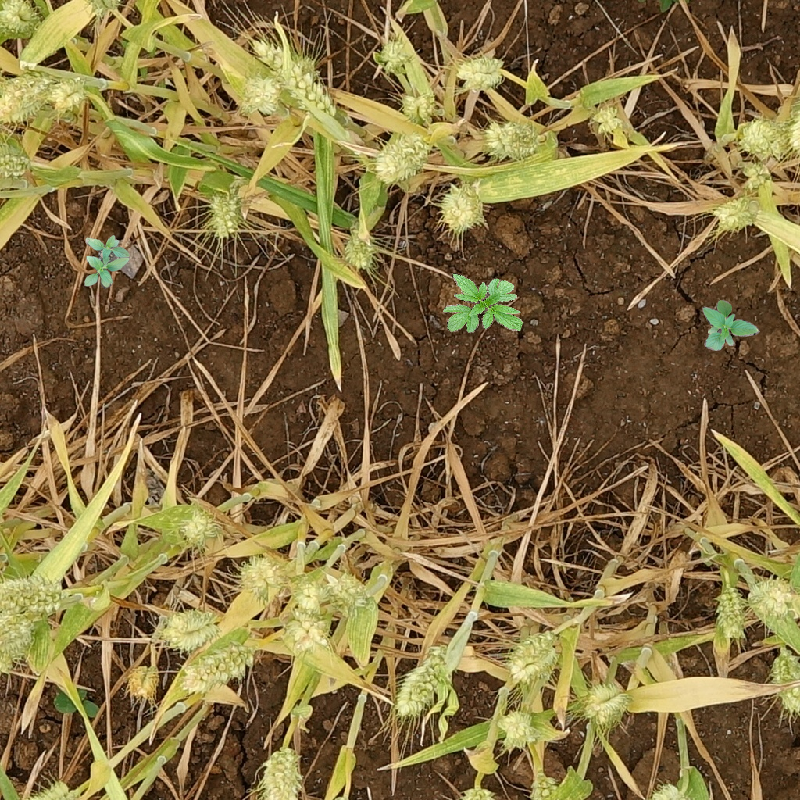spikelet: (255, 33, 330, 111), (391, 644, 454, 719), (179, 639, 257, 693), (371, 131, 429, 183), (505, 629, 559, 683), (156, 606, 220, 650), (1, 573, 65, 614), (1, 72, 52, 123), (438, 181, 485, 234), (258, 745, 304, 799), (483, 118, 542, 160), (48, 72, 100, 117), (237, 552, 284, 600), (580, 680, 629, 726), (748, 574, 798, 619), (1, 607, 35, 671), (284, 606, 331, 652), (206, 188, 245, 240), (327, 568, 373, 612), (713, 583, 747, 641), (454, 53, 505, 91), (771, 648, 800, 714), (736, 116, 782, 156), (177, 506, 219, 548), (496, 708, 537, 751), (712, 194, 758, 232), (341, 225, 377, 272), (241, 73, 281, 115), (291, 572, 328, 611), (1, 1, 40, 37), (398, 88, 435, 124), (587, 100, 623, 137), (374, 38, 409, 74), (23, 778, 77, 800), (1, 143, 31, 181), (645, 779, 692, 800), (527, 773, 563, 800), (740, 160, 772, 189), (85, 1, 127, 17), (459, 783, 498, 799), (788, 98, 799, 154)
weed: (447, 274, 523, 335), (702, 300, 760, 351), (84, 235, 130, 289), (47, 686, 104, 724)
